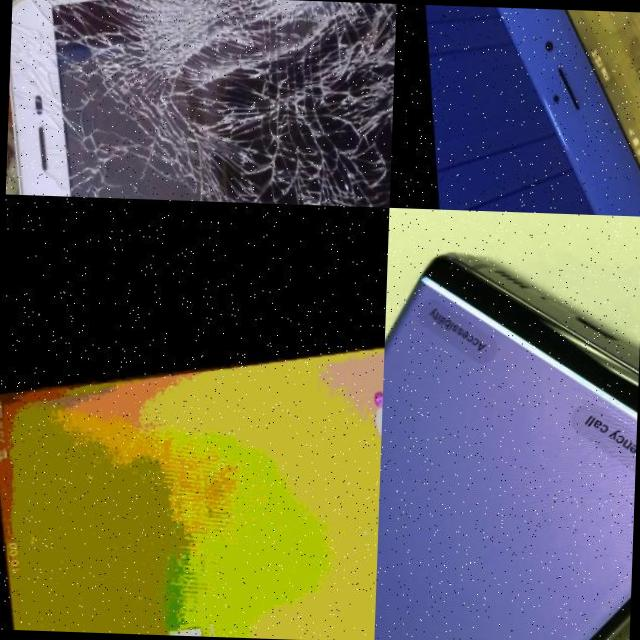screen crack: (4, 0, 395, 206)
